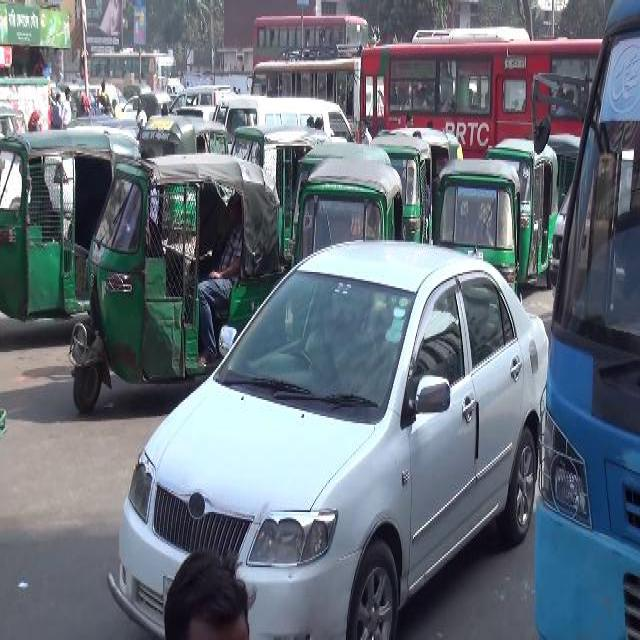17: (70, 156, 288, 428), (1, 129, 138, 333), (434, 157, 520, 323), (291, 156, 403, 282), (232, 121, 330, 252), (489, 128, 557, 292), (297, 133, 391, 251), (378, 120, 462, 211), (371, 130, 432, 254), (138, 111, 228, 173), (133, 89, 173, 128), (1, 99, 30, 132)
19: (215, 96, 358, 149), (172, 83, 230, 120)
5: (106, 239, 548, 639), (116, 90, 142, 120)
Truck: (533, 2, 639, 634), (357, 26, 608, 184), (246, 55, 362, 130), (250, 5, 370, 76), (86, 43, 184, 103)
